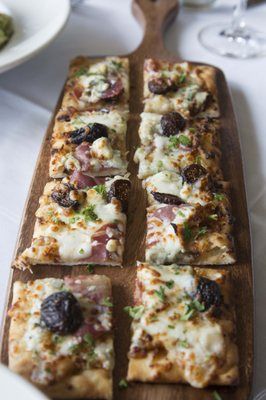sushi: (1, 0, 72, 74)
